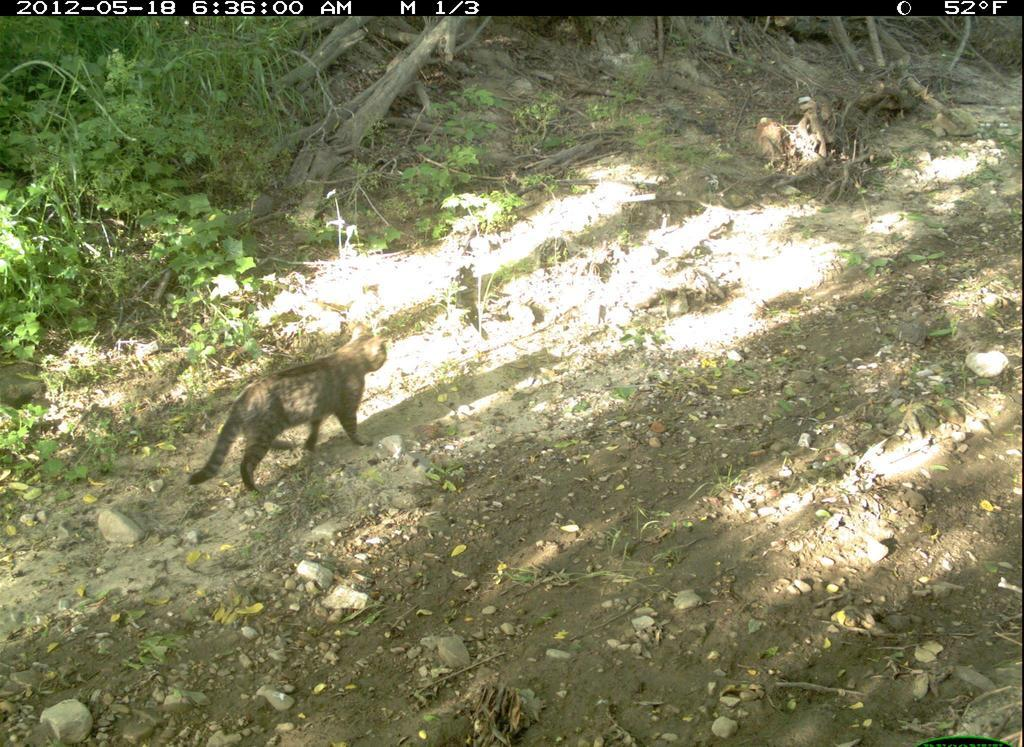cat: (178, 322, 401, 506)
